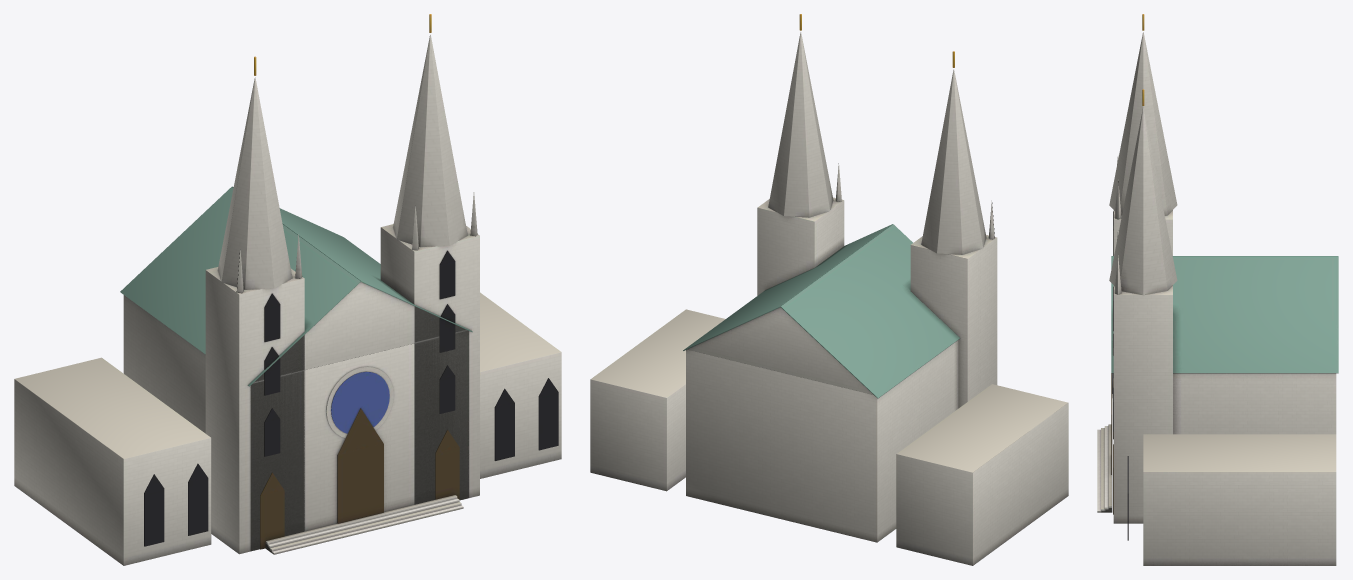
The model's file is catedral.glb.
The picture shows the model from 3 angles, left to right: view 1: azimuth 30°, elevation 25°; view 2: azimuth 150°, elevation 25°; view 3: azimuth 270°, elevation 25°; orthographic projection. The views are drawn at different scales.
Parts seen in each view (by area): view 1: catedral; view 2: catedral; view 3: catedral.
Part boxes in pixels (x1,y1,x2,y2): catedral: (14, 14, 561, 565); catedral: (590, 14, 1068, 565); catedral: (1097, 14, 1338, 565).
Size of the model in its own units: 60 by 62.4 by 32.5.
Materials: 1 (1 with a texture image).
